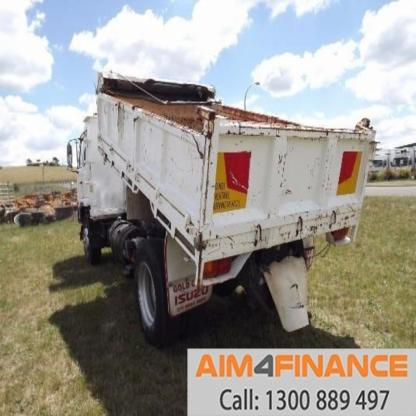dump_truck: (60, 58, 370, 344)
